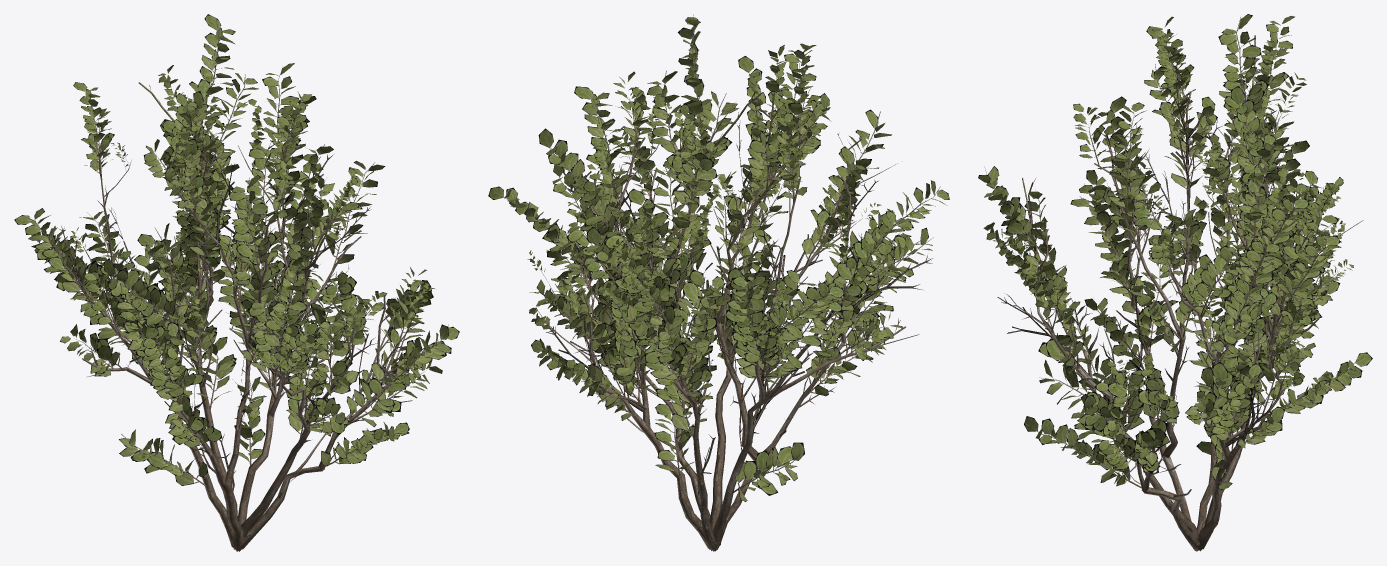
The model's file is olive_c.glb.
The picture shows the model from 3 angles, left to right: view 1: azimuth 30°, elevation 25°; view 2: azimuth 150°, elevation 25°; view 3: azimuth 270°, elevation 25°; orthographic projection. The views are drawn at different scales.
Parts seen in each view (by area): view 1: searsia_lucida_d_LOD0; view 2: searsia_lucida_d_LOD0; view 3: searsia_lucida_d_LOD0.
Boxes of the visible parts, box(x1,y1,x2,y2) form: searsia_lucida_d_LOD0: box(14, 14, 459, 551); searsia_lucida_d_LOD0: box(488, 14, 949, 551); searsia_lucida_d_LOD0: box(978, 14, 1372, 551).
Bounding box in the file's own units: 1.1 × 1.42 × 0.9539.
Materials: 2 (2 with a texture image).
